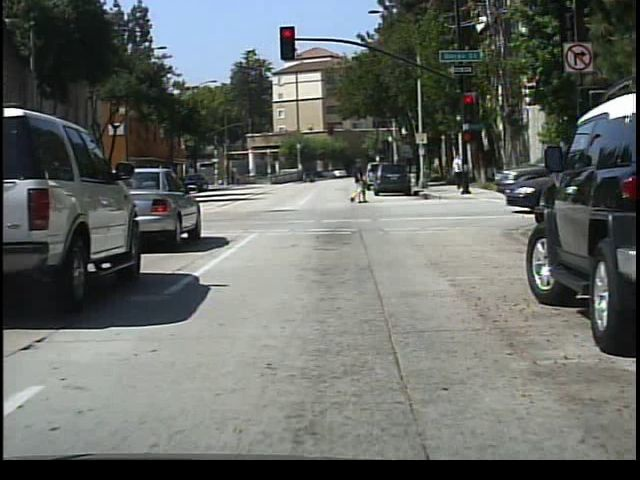person: (349, 157, 374, 206), (452, 150, 466, 191)
